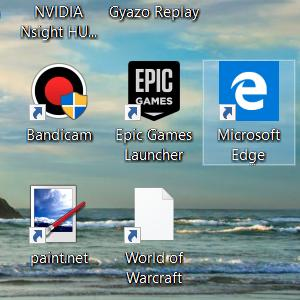edge: (219, 60, 279, 121)
